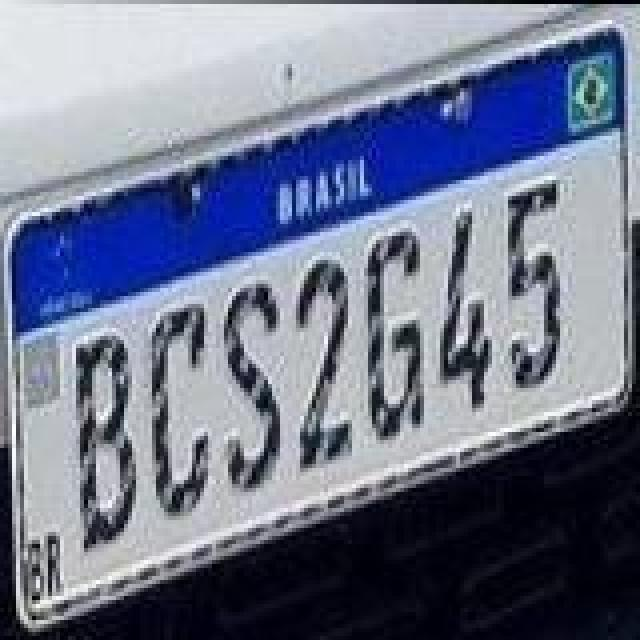2: (294, 250, 354, 474)
4: (436, 202, 492, 410)
5: (506, 176, 566, 392)
B: (68, 326, 140, 554)
C: (142, 298, 210, 522)
G: (364, 222, 428, 446)
S: (216, 278, 280, 494)
